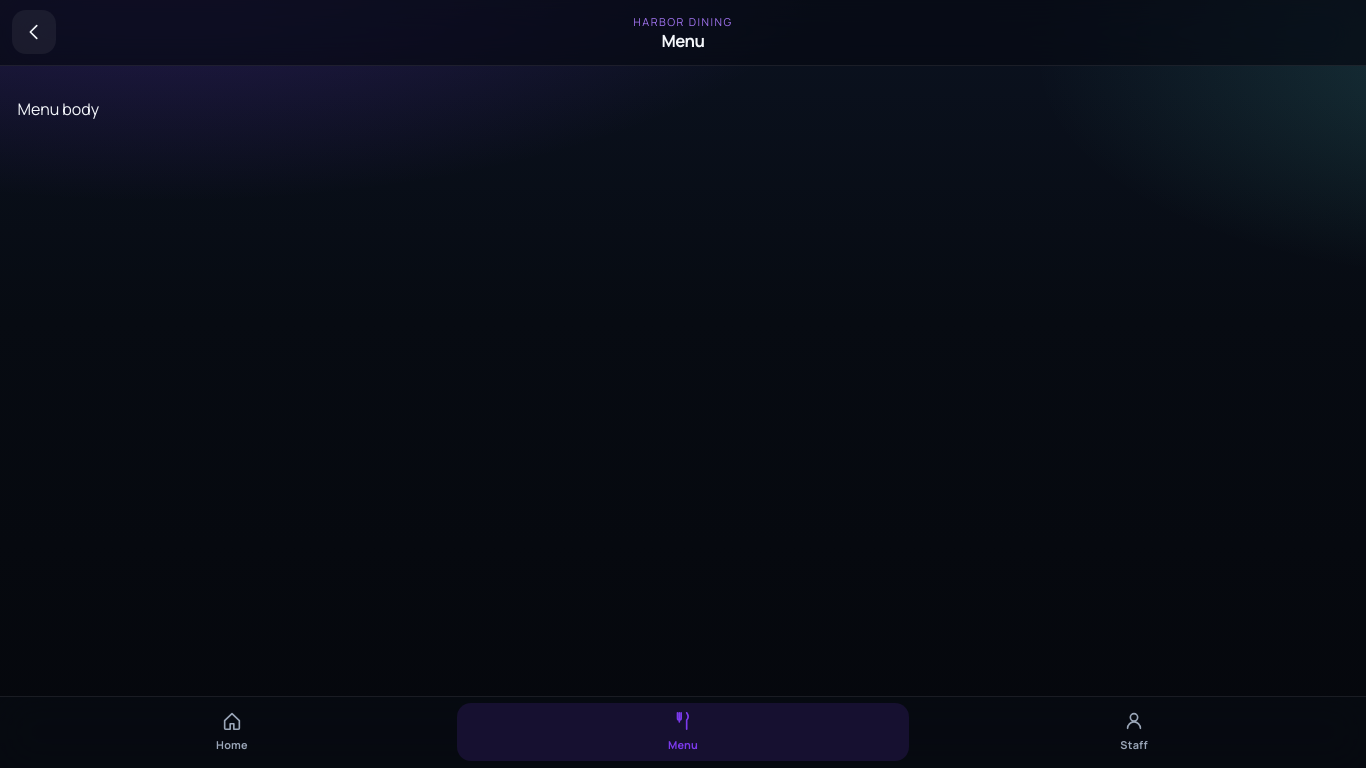
Scenario: tenant app chrome › inner pages show a back button and keep the header centered
Expected: the heading "Menu" is shown, 661,29 -> 705,52
Expected: the button named "Back" is shown, 12,10 -> 56,54
Click the link "Staff" at (1134, 731), box 1120,710 -> 1148,752
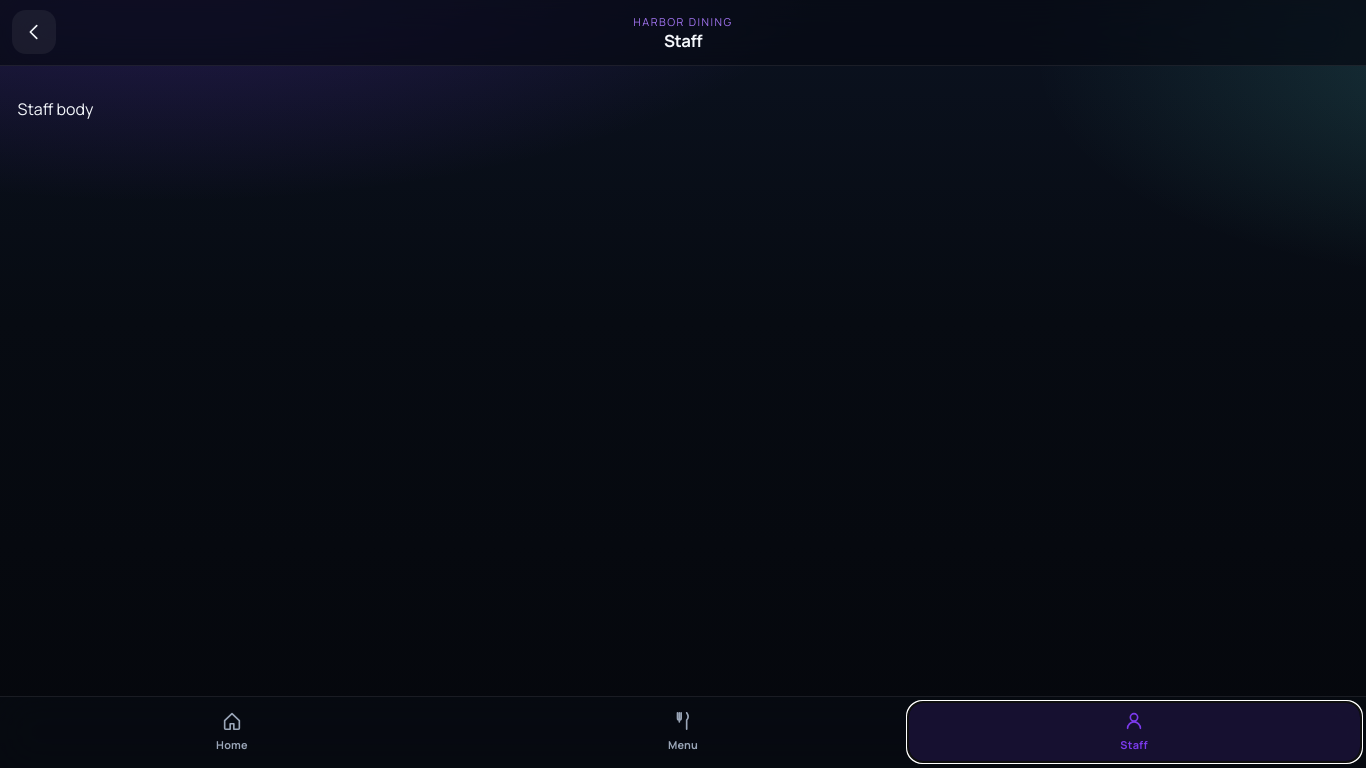
Now the heading "Staff" is shown, box 664,29 -> 702,52
Now the text "Staff body" is shown, box 18,98 -> 93,120
